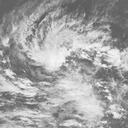cyclone: (38, 39, 87, 96)
